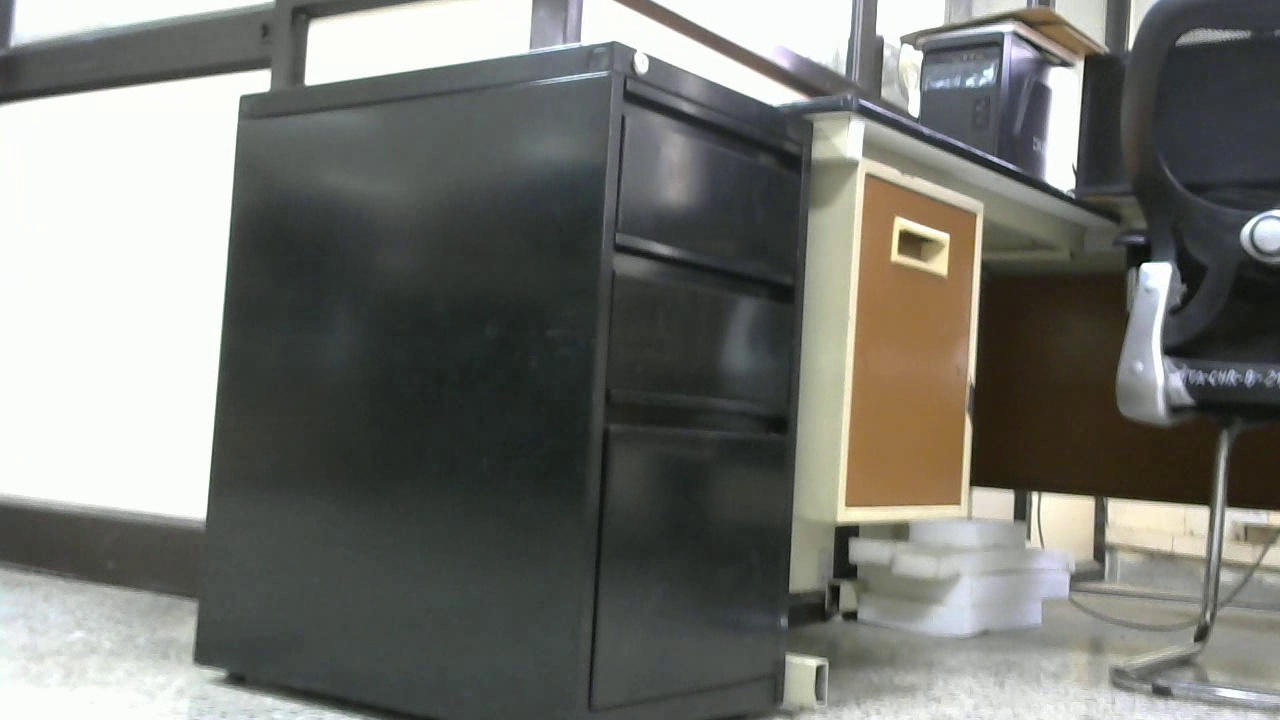chair: (1115, 1, 1280, 704)
